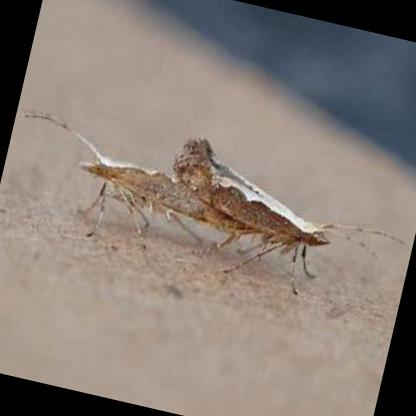plutella: (20, 110, 404, 300)
